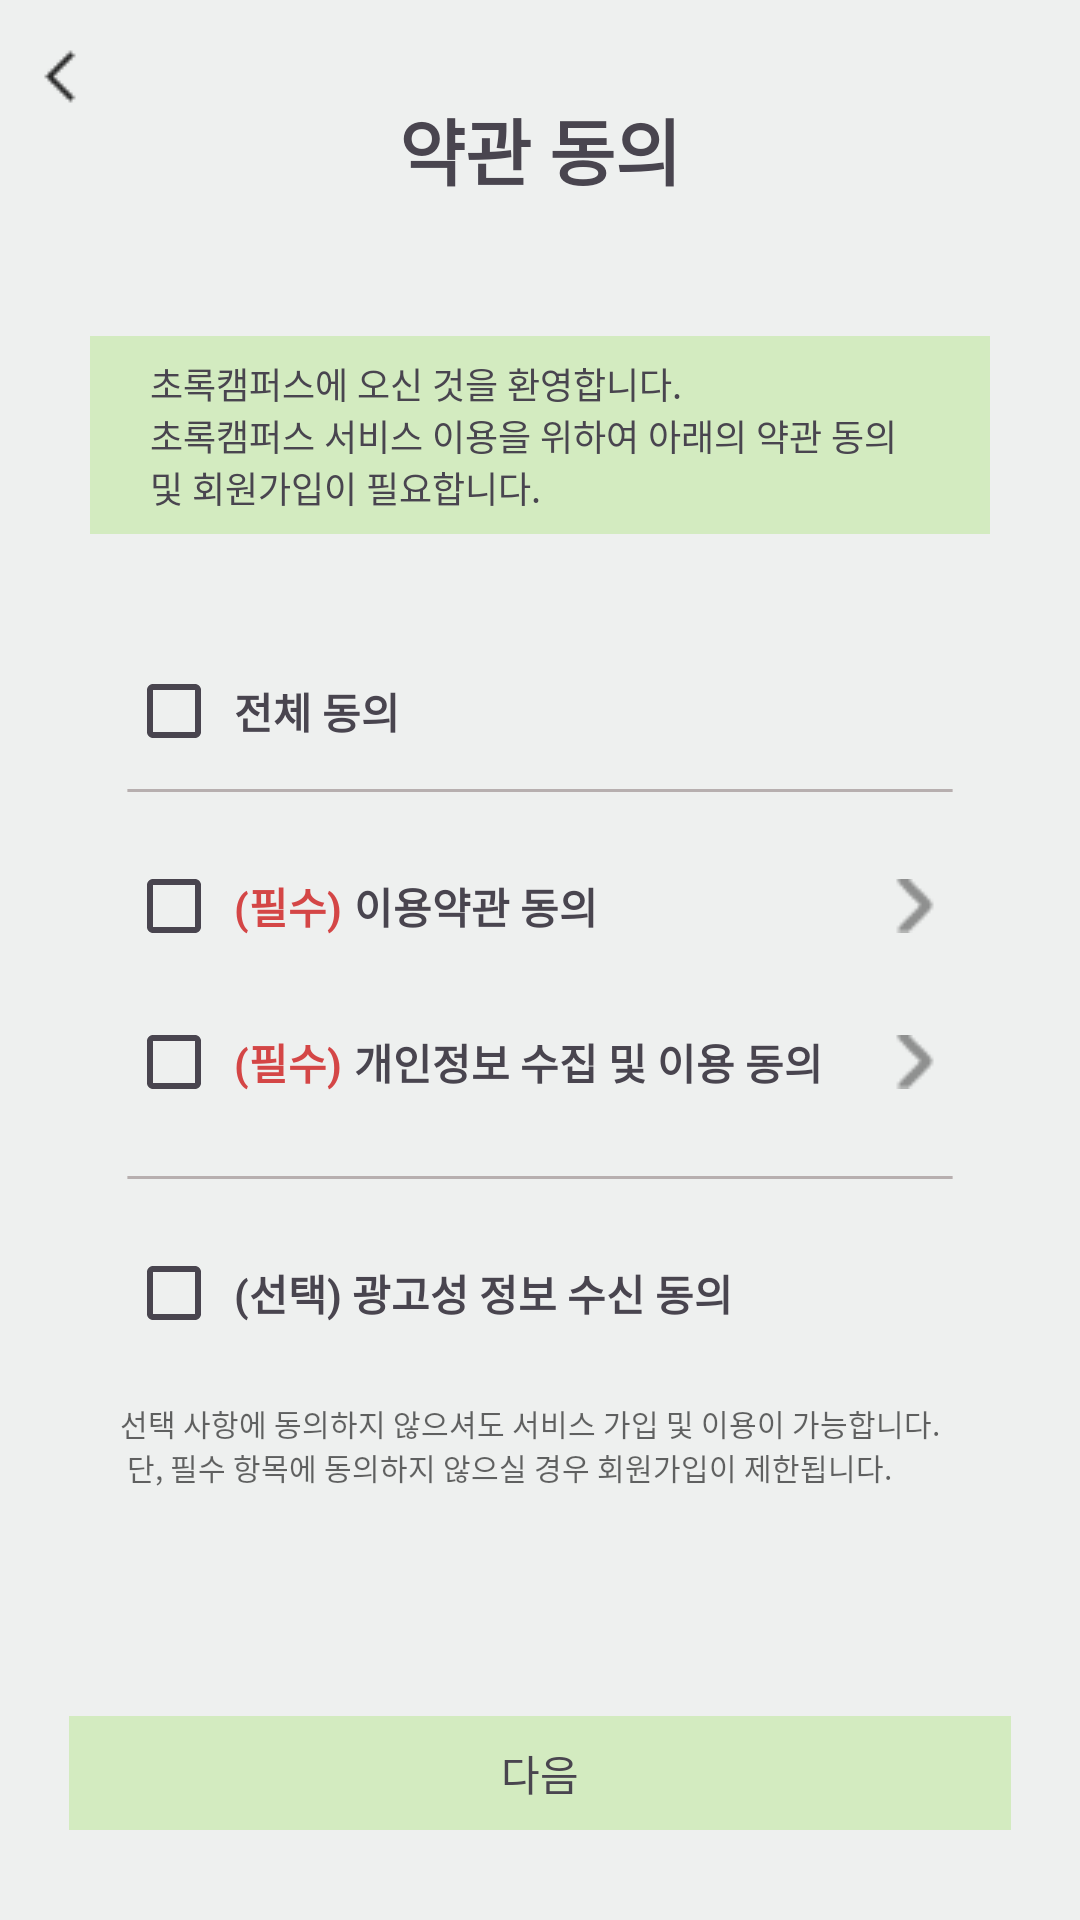

Where icons sit on this 1080*1920 app screen, as region(x1, y1, x2, y2):
back arrow: region(44, 50, 76, 103)
details arrow: region(897, 879, 933, 933), region(897, 1035, 933, 1089)
